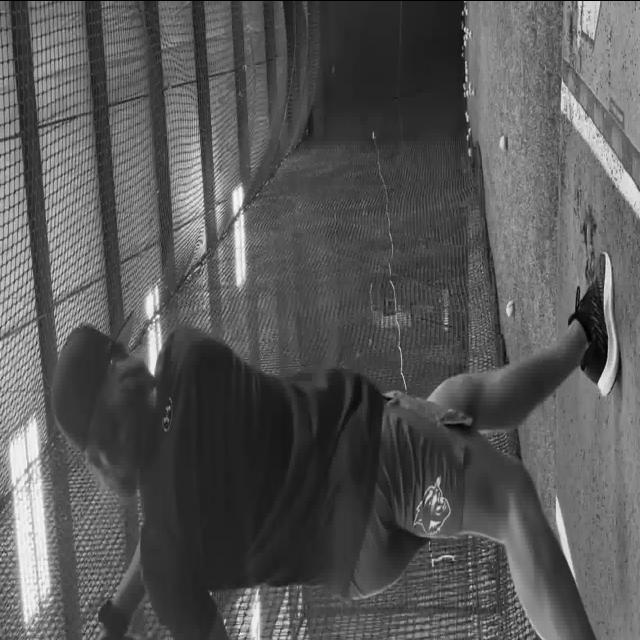baseball: (500, 135, 508, 153), (506, 300, 514, 317)
baseball_glove: (96, 599, 130, 640)
shoe: (567, 250, 620, 396)
